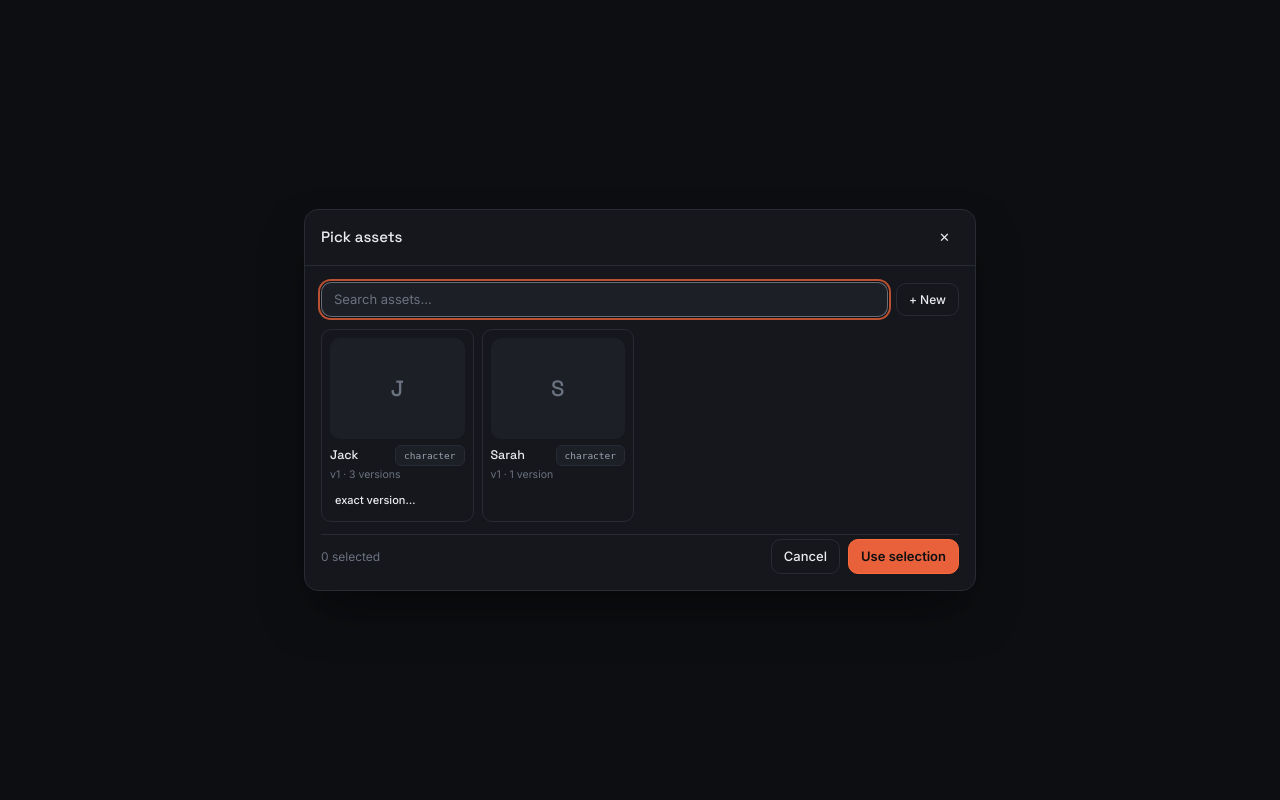
Test: <AssetPicker> › creates a new asset inline and selects it
expect the text "Jack" is shown: met, box [330,445,358,466]
Click the button "+ New" at [927, 299], box [896,283,959,316]
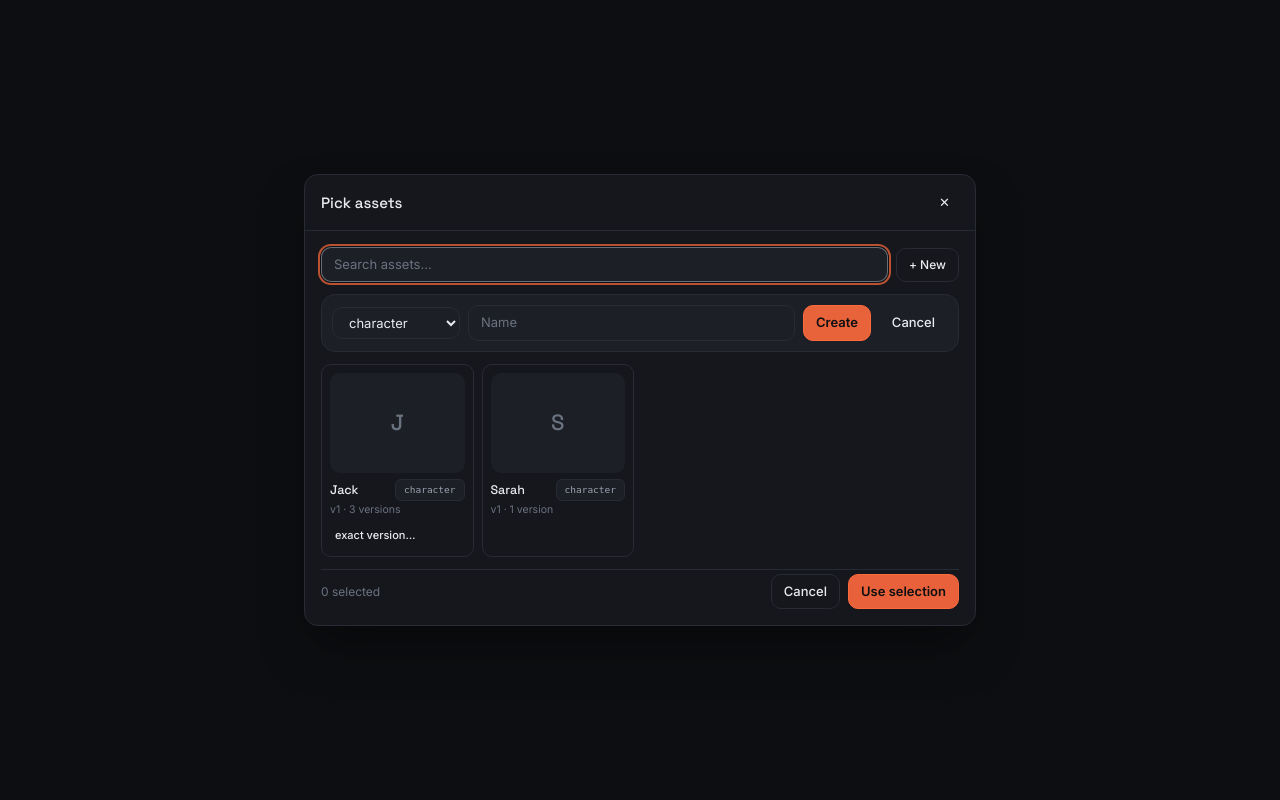
Type "Mira" into the field with placeholder "Name" at [632, 323], box [468,305,795,340]
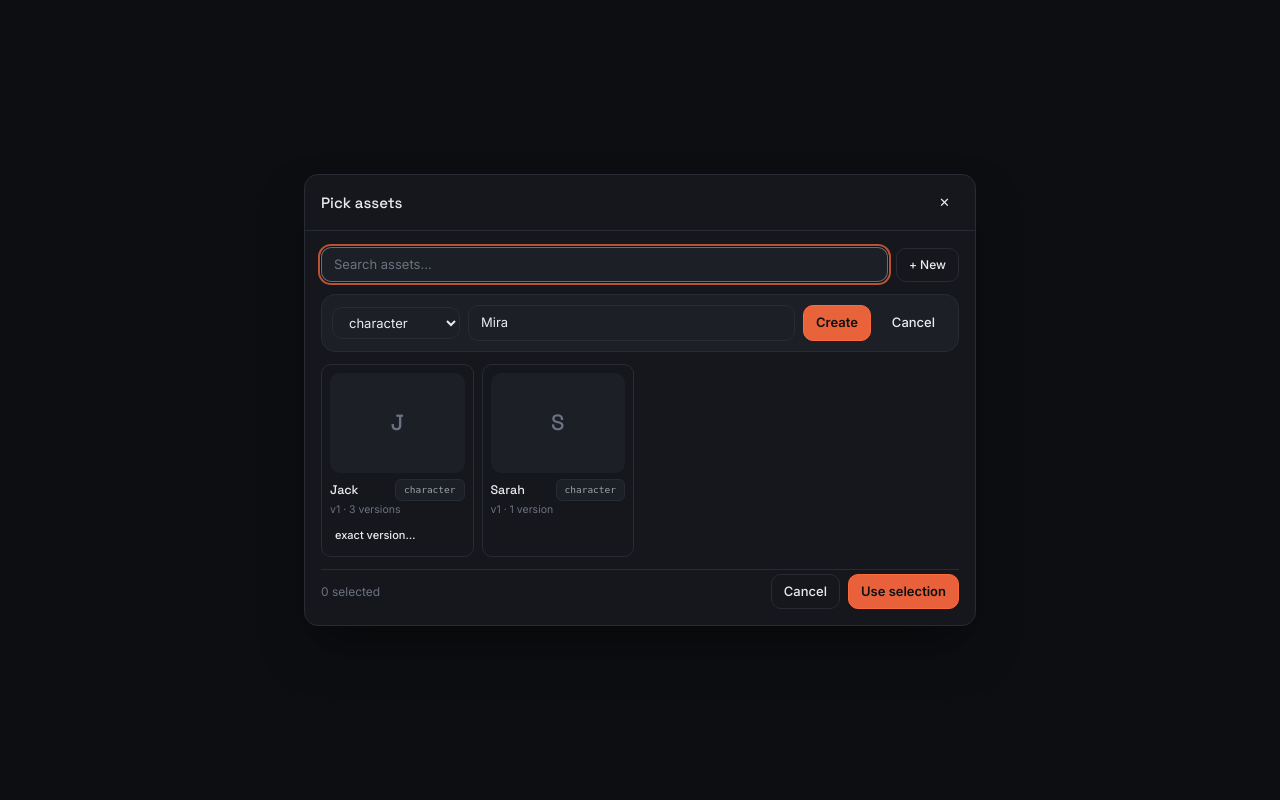
Click the button "Create" at [837, 323], box [803,305,871,340]
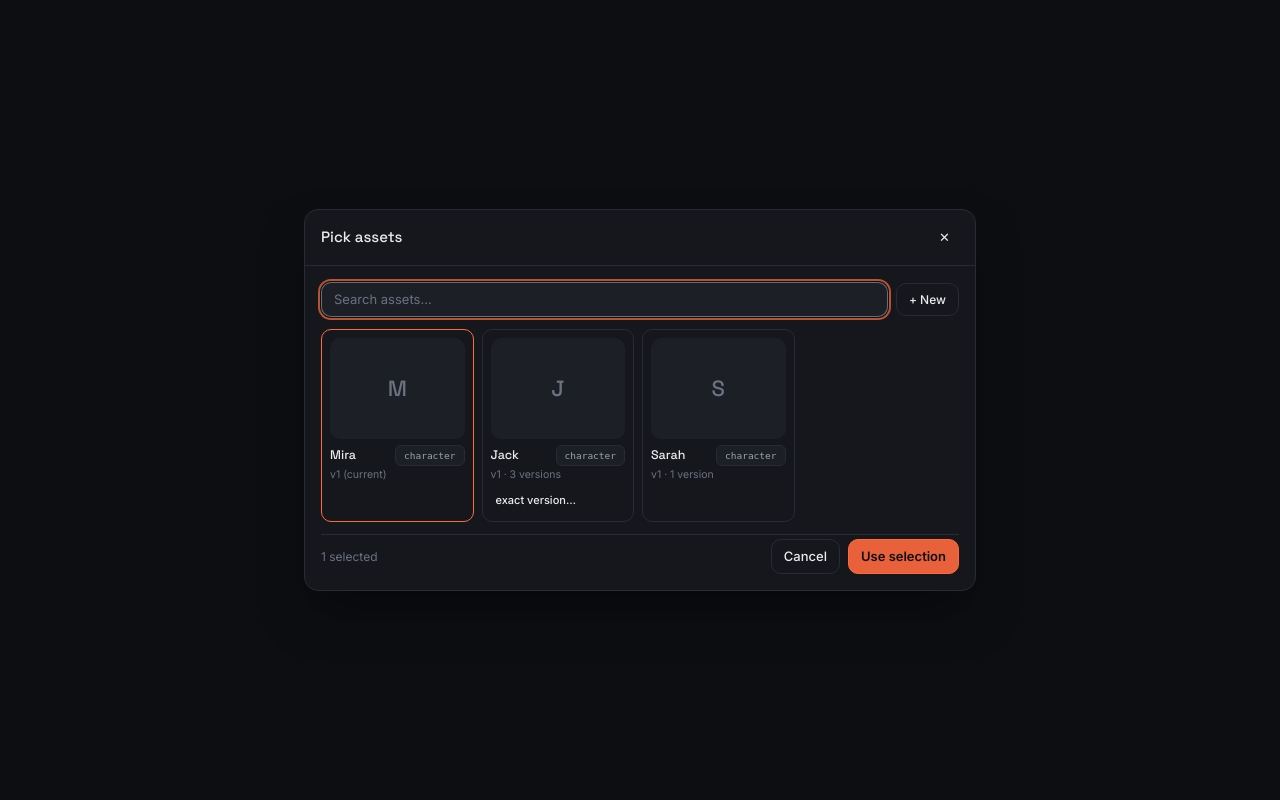
expect the text "Mira" is shown: met, box [330,445,356,466]
expect the text "1 selected" is shown: met, box [321,547,378,566]
